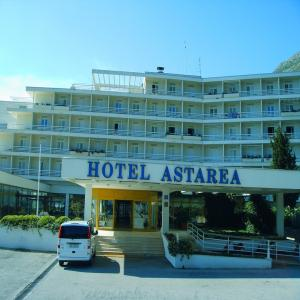Vehicle-registration-plate: (71, 243, 79, 249)
